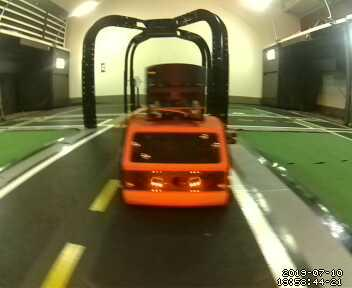pheeno: (119, 63, 234, 218)
